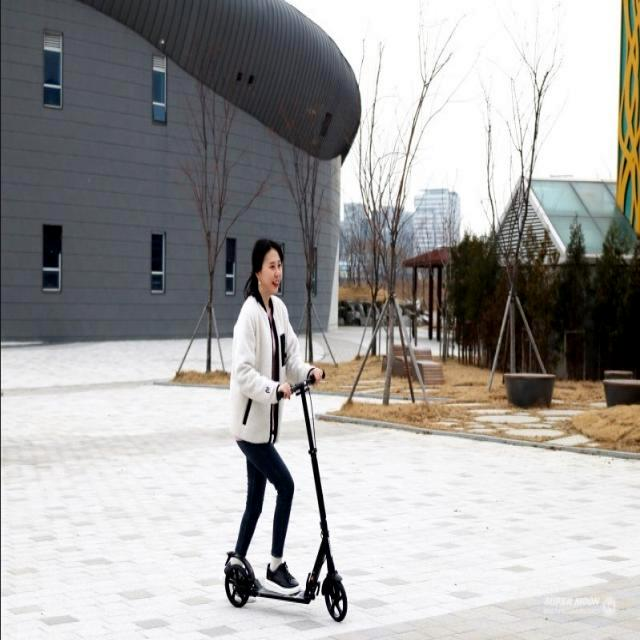bare_head: (239, 239, 296, 299)
human: (214, 232, 300, 583)
kickboard: (183, 543, 385, 637)
